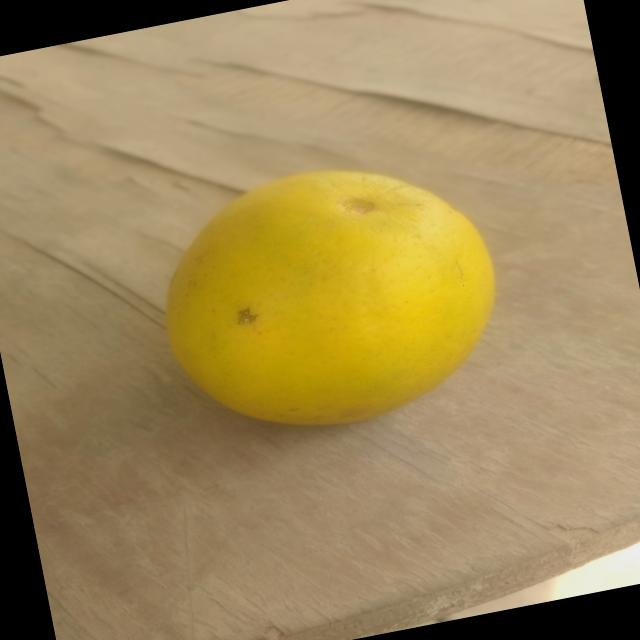agrume: (132, 141, 524, 467)
